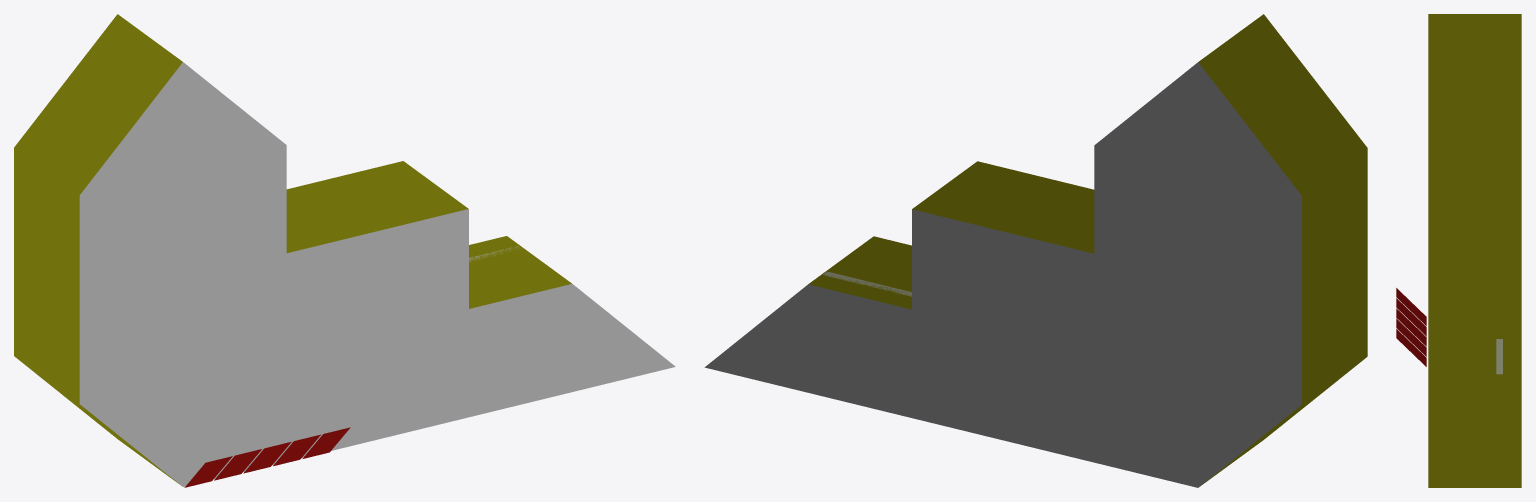
The model's file is idf.obj.
The picture shows the model from 3 angles, left to right: view 1: azimuth 30°, elevation 25°; view 2: azimuth 150°, elevation 25°; view 3: azimuth 270°, elevation 25°; orthographic projection. The views are drawn at different scales.
Bounding box in the file's own units: 26.33 × 17.93 × 6.72.
